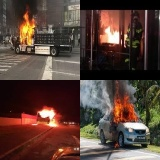fire: (112, 94, 139, 124), (18, 13, 36, 47), (33, 107, 60, 128), (102, 24, 125, 46), (113, 140, 121, 150)
